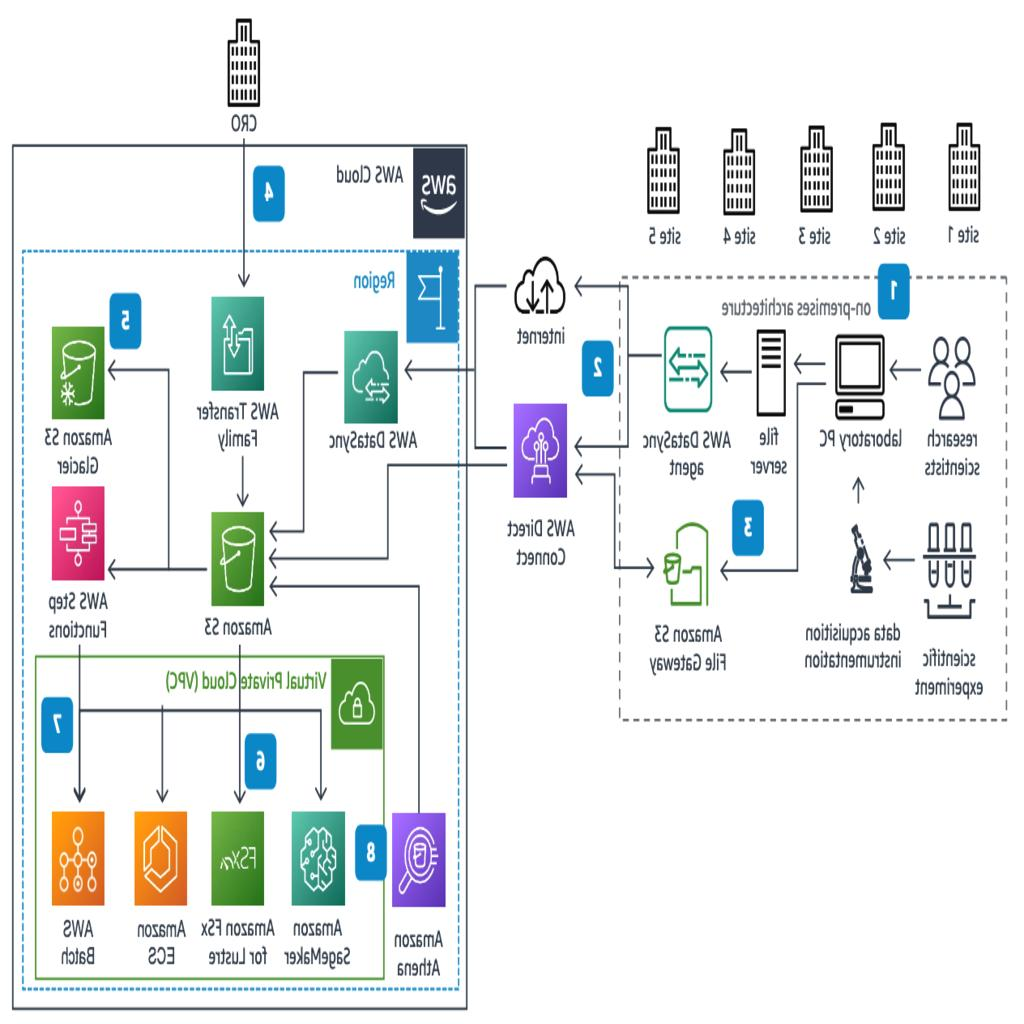actor: (736, 151, 780, 218), (666, 151, 710, 218), (228, 33, 272, 100), (947, 151, 990, 218), (807, 151, 850, 218), (933, 371, 976, 438), (933, 566, 976, 632), (878, 151, 920, 218)
api_gateway: (522, 256, 565, 322)
compute: (840, 330, 884, 397), (662, 330, 706, 397), (352, 330, 396, 397), (216, 306, 259, 374), (840, 520, 884, 586), (662, 520, 706, 586), (58, 520, 102, 586), (58, 822, 102, 888), (298, 822, 341, 888), (137, 822, 180, 888), (752, 330, 794, 397)
data_flow: (418, 589, 422, 804), (235, 640, 240, 753), (248, 136, 252, 270), (618, 286, 672, 292), (132, 550, 185, 556), (235, 402, 240, 458), (776, 550, 822, 556), (618, 440, 672, 445), (296, 494, 349, 499), (132, 361, 185, 366), (588, 550, 631, 556), (860, 430, 864, 492), (424, 361, 467, 366), (296, 428, 349, 432), (317, 722, 322, 763), (235, 722, 240, 763), (156, 722, 161, 763), (78, 722, 82, 763), (895, 550, 920, 556), (487, 286, 512, 292), (487, 330, 512, 336), (804, 361, 830, 366), (716, 361, 742, 366), (895, 361, 920, 366), (487, 440, 512, 445), (487, 361, 512, 366)
database_storage: (58, 330, 102, 397), (216, 520, 259, 586), (216, 822, 259, 888)
network_security: (398, 822, 442, 888), (522, 409, 565, 476)
trust_boundary: (14, 144, 470, 1004), (618, 274, 1008, 719), (36, 650, 384, 978)
